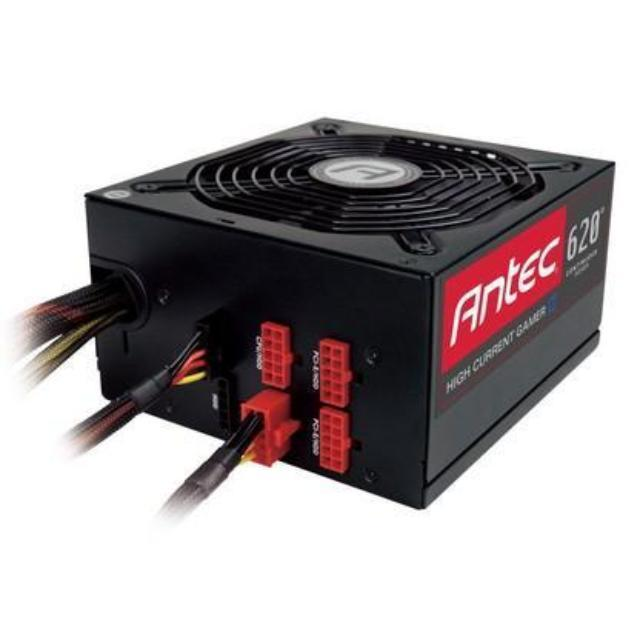PSU: (71, 110, 626, 516)
